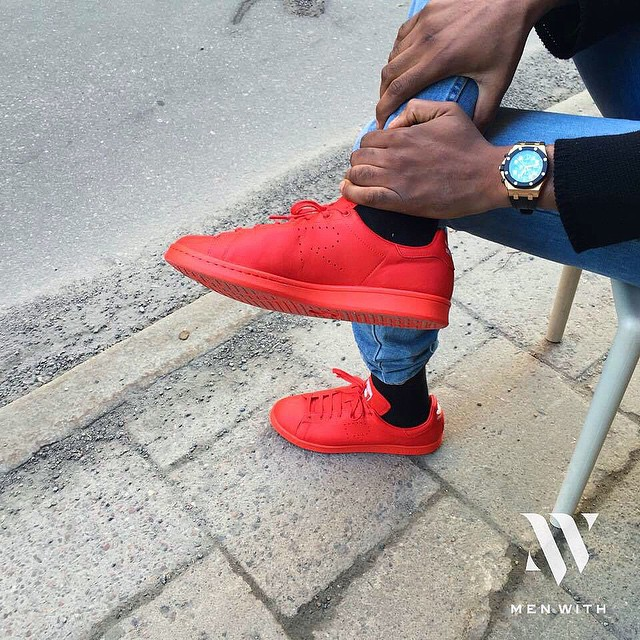sneaker: (154, 157, 468, 344), (251, 359, 453, 465)
